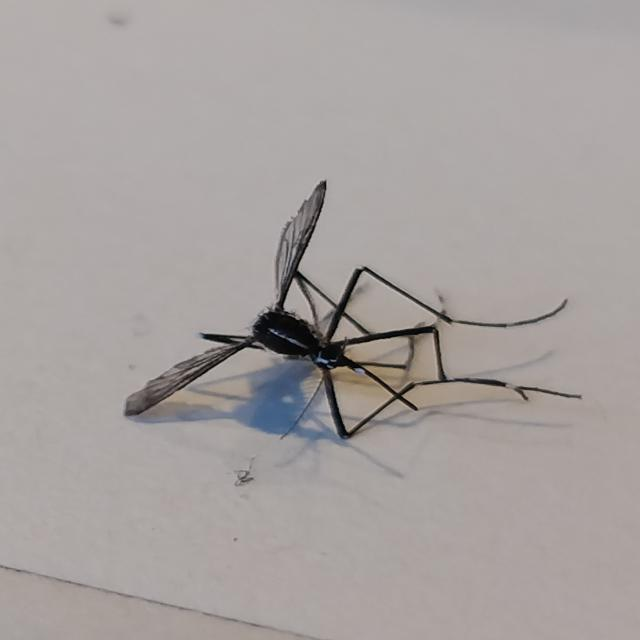albopictus: (123, 161, 571, 467)
